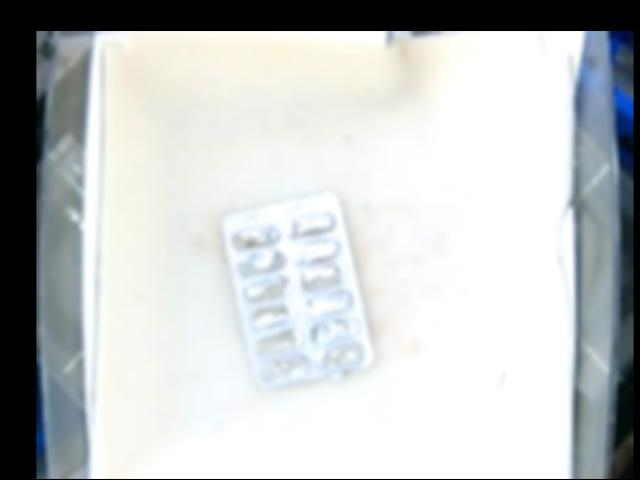Medicine: (217, 192, 375, 387)
